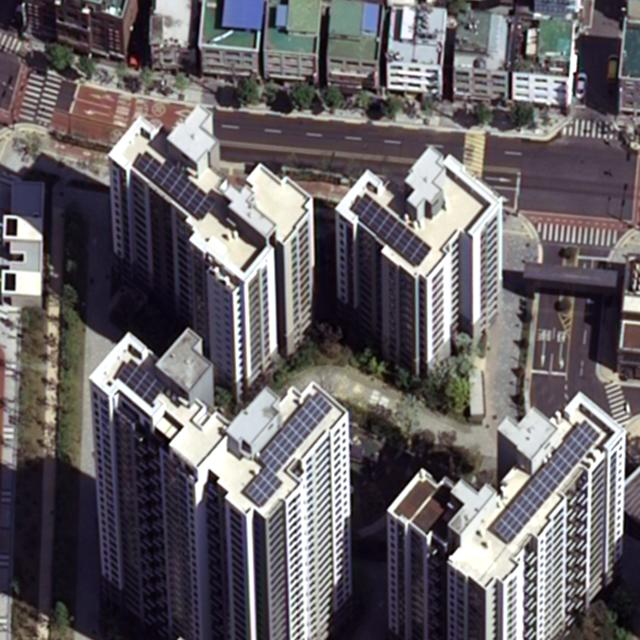panel: (484, 418, 603, 546), (248, 391, 333, 473), (132, 151, 219, 221), (353, 193, 433, 267), (116, 358, 166, 404), (238, 469, 285, 508)
